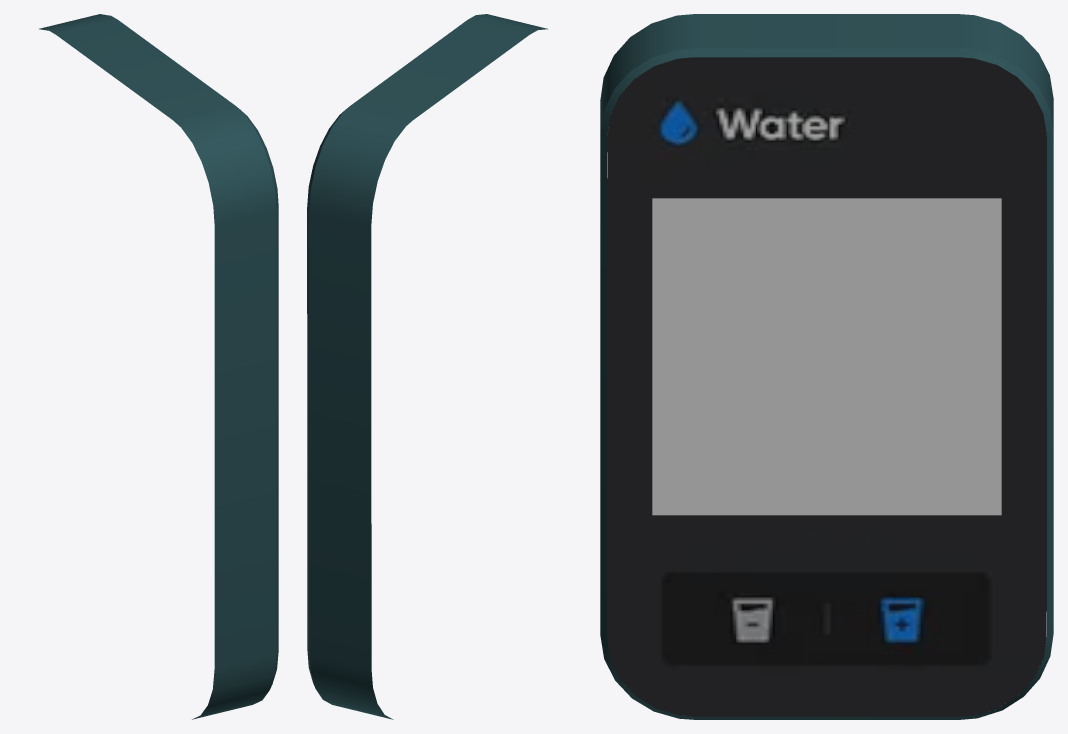
File: water-transformed.glb
3 views of the same model, side by side, from view 1: azimuth 30°, elevation 25°; view 2: azimuth 150°, elevation 25°; view 3: azimuth 270°, elevation 25° (orthographic). The views are drawn at different scales.
Parts seen in each view (by area): view 1: waterBase; view 2: waterBase; view 3: waterScreen, waterCircle, waterBase.
Boxes of the visible parts, x1,y1,x2,y2 form: waterBase: [39, 14, 278, 719]; waterBase: [307, 14, 547, 719]; waterScreen: [607, 57, 1046, 716]; waterCircle: [652, 198, 1001, 515]; waterBase: [600, 14, 1053, 719].
Bounding box in the file's own units: 4.05 × 33.13 × 20.27.
Materials: 2 (1 with a texture image).
